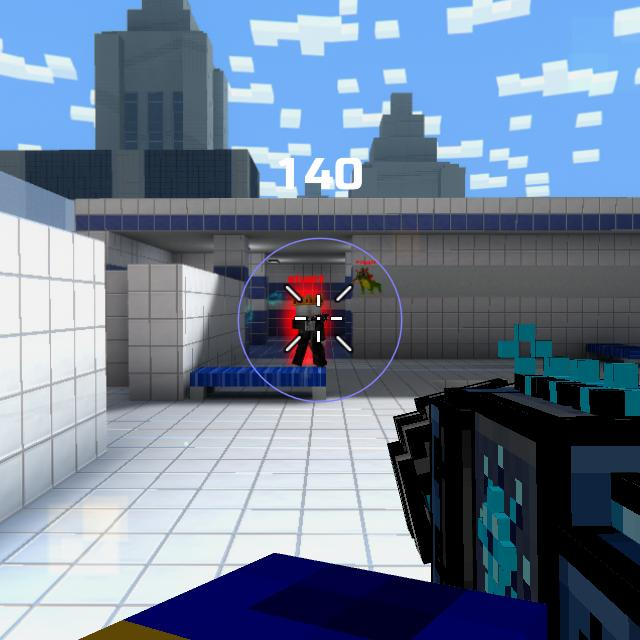Enemy: (292, 294, 327, 366)
